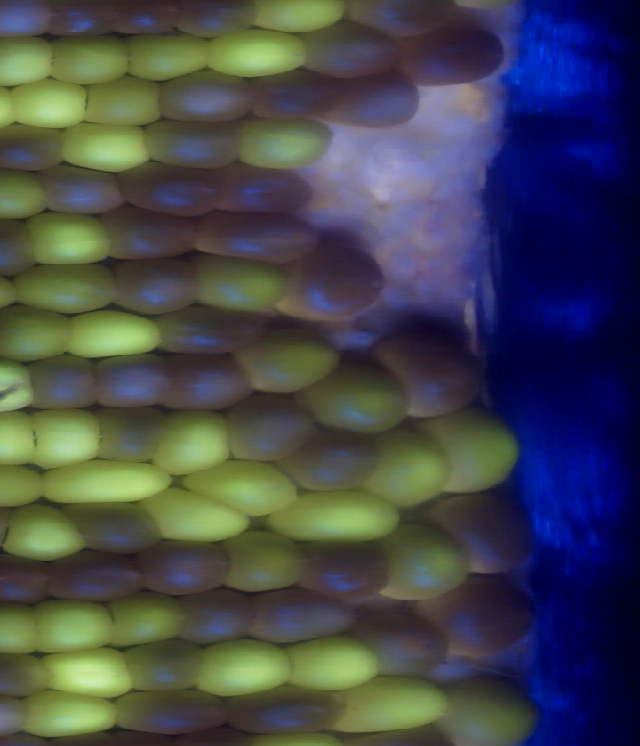fluorescent: (292, 350, 417, 440), (419, 401, 527, 496), (265, 486, 410, 551), (424, 672, 548, 746), (370, 517, 474, 605), (233, 323, 348, 402), (353, 427, 459, 512), (324, 671, 458, 736), (175, 454, 303, 519), (35, 456, 183, 511), (187, 249, 301, 320), (189, 634, 302, 702), (278, 629, 393, 695), (134, 485, 256, 547), (8, 257, 128, 319), (227, 111, 341, 175), (143, 404, 234, 483), (216, 527, 315, 598), (199, 25, 320, 83), (51, 116, 161, 179), (23, 591, 124, 659), (0, 501, 99, 570), (60, 303, 168, 366), (17, 204, 120, 270), (20, 402, 109, 472), (38, 644, 139, 705), (15, 685, 126, 740), (43, 29, 138, 92), (99, 585, 191, 650), (118, 25, 217, 85), (80, 72, 171, 131), (0, 301, 80, 368), (8, 74, 96, 134), (245, 1, 355, 37), (0, 30, 64, 91), (0, 156, 52, 224), (0, 595, 51, 663), (0, 456, 51, 512), (0, 352, 41, 420), (0, 406, 42, 468)
nonfluorescent: (368, 330, 490, 425), (416, 573, 546, 662), (427, 489, 543, 577), (187, 205, 328, 271), (350, 604, 458, 689), (279, 243, 392, 323), (273, 422, 388, 500), (215, 680, 354, 741), (389, 23, 515, 90), (143, 302, 279, 361), (222, 385, 321, 465), (290, 19, 408, 86), (241, 583, 362, 648), (112, 157, 230, 222), (155, 347, 261, 418), (295, 535, 396, 609), (320, 70, 430, 136), (108, 683, 239, 738), (137, 114, 250, 177), (132, 535, 239, 601), (210, 157, 321, 220), (154, 65, 263, 129), (61, 496, 173, 558), (104, 253, 206, 321), (84, 344, 182, 414), (45, 545, 151, 609), (100, 202, 206, 265), (246, 68, 355, 127), (34, 160, 131, 222), (121, 635, 215, 698), (21, 352, 108, 418), (172, 586, 265, 647), (338, 1, 464, 45), (91, 401, 172, 467), (0, 119, 77, 178), (171, 1, 264, 44), (0, 546, 60, 609), (0, 644, 62, 703), (42, 1, 125, 43), (106, 1, 188, 39), (0, 213, 43, 281), (0, 1, 60, 45), (0, 686, 37, 740)
